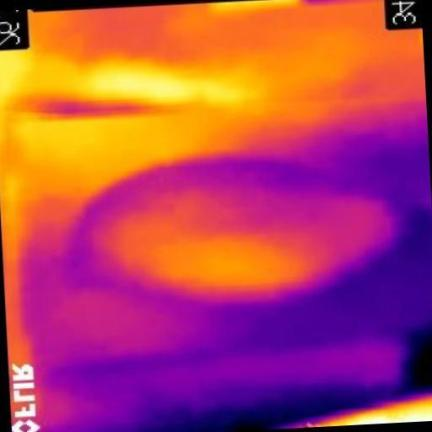mango: (74, 163, 395, 302)
